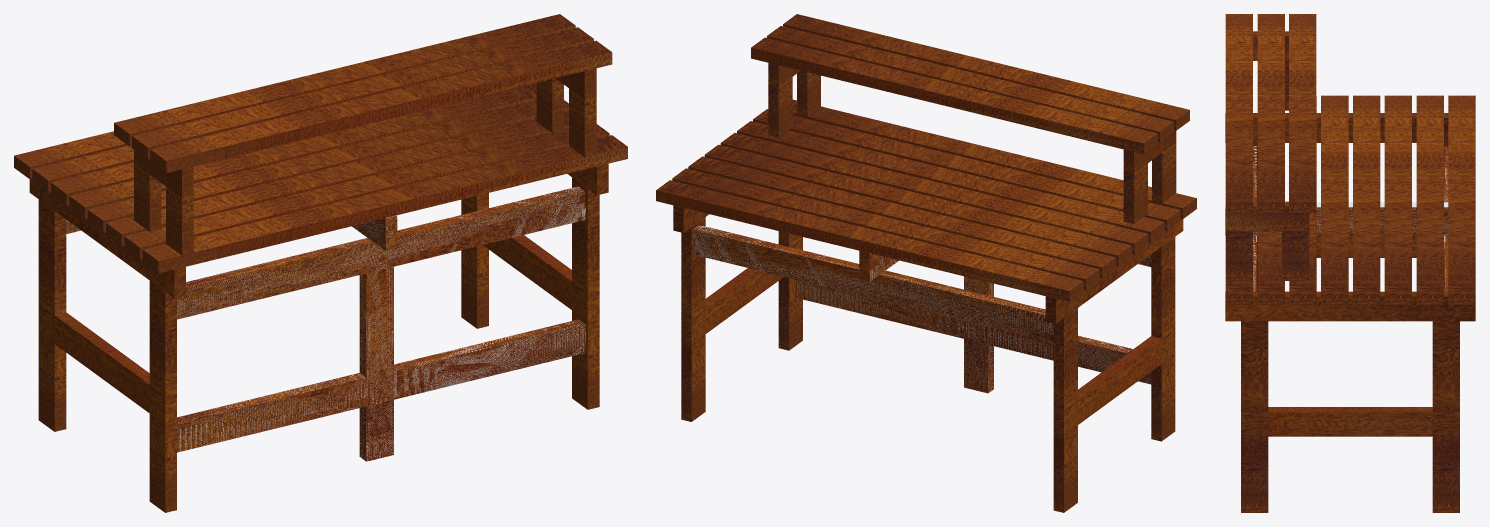
3 renders of one model, left to right at view 1: azimuth 30°, elevation 25°; view 2: azimuth 150°, elevation 25°; view 3: azimuth 270°, elevation 25°, orthographic. The views are drawn at different scales.
Visible parts, largest first — view 1: mesh8_mesh8-geometry, mesh19_mesh19-geometry, mesh17_mesh17-geometry, mesh1_mesh1-geometry, mesh5_mesh5-geometry, mesh10_mesh10-geometry, mesh4_mesh4-geometry, mesh15_mesh15-geometry, mesh13_mesh13-geometry; view 2: mesh8_mesh8-geometry, mesh17_mesh17-geometry, mesh19_mesh19-geometry, mesh1_mesh1-geometry, mesh5_mesh5-geometry, mesh10_mesh10-geometry, mesh4_mesh4-geometry, mesh15_mesh15-geometry; view 3: mesh8_mesh8-geometry, mesh17_mesh17-geometry, mesh1_mesh1-geometry, mesh4_mesh4-geometry, mesh5_mesh5-geometry, mesh10_mesh10-geometry, mesh19_mesh19-geometry, mesh13_mesh13-geometry.
Boxes of the visible parts, x1,y1,x2,y2 form: mesh8_mesh8-geometry: [14, 83, 627, 273]; mesh19_mesh19-geometry: [66, 186, 585, 461]; mesh17_mesh17-geometry: [114, 14, 612, 173]; mesh1_mesh1-geometry: [38, 177, 599, 512]; mesh5_mesh5-geometry: [54, 235, 571, 412]; mesh10_mesh10-geometry: [134, 78, 596, 255]; mesh4_mesh4-geometry: [29, 164, 608, 298]; mesh15_mesh15-geometry: [134, 150, 193, 197]; mesh13_mesh13-geometry: [556, 68, 596, 99]; mesh8_mesh8-geometry: [656, 99, 1196, 301]; mesh17_mesh17-geometry: [751, 14, 1189, 154]; mesh19_mesh19-geometry: [693, 225, 1151, 393]; mesh1_mesh1-geometry: [681, 217, 1175, 512]; mesh5_mesh5-geometry: [705, 268, 1161, 424]; mesh10_mesh10-geometry: [768, 71, 1176, 223]; mesh4_mesh4-geometry: [673, 205, 1183, 323]; mesh15_mesh15-geometry: [1123, 130, 1176, 173]; mesh8_mesh8-geometry: [1225, 95, 1475, 304]; mesh17_mesh17-geometry: [1225, 14, 1316, 213]; mesh1_mesh1-geometry: [1241, 143, 1459, 512]; mesh4_mesh4-geometry: [1225, 113, 1475, 321]; mesh5_mesh5-geometry: [1268, 235, 1432, 436]; mesh10_mesh10-geometry: [1225, 61, 1309, 280]; mesh19_mesh19-geometry: [1225, 146, 1448, 291]; mesh13_mesh13-geometry: [1225, 201, 1309, 231].
Size of the model in its own units: 0.7408 by 0.5433 by 0.3951.
